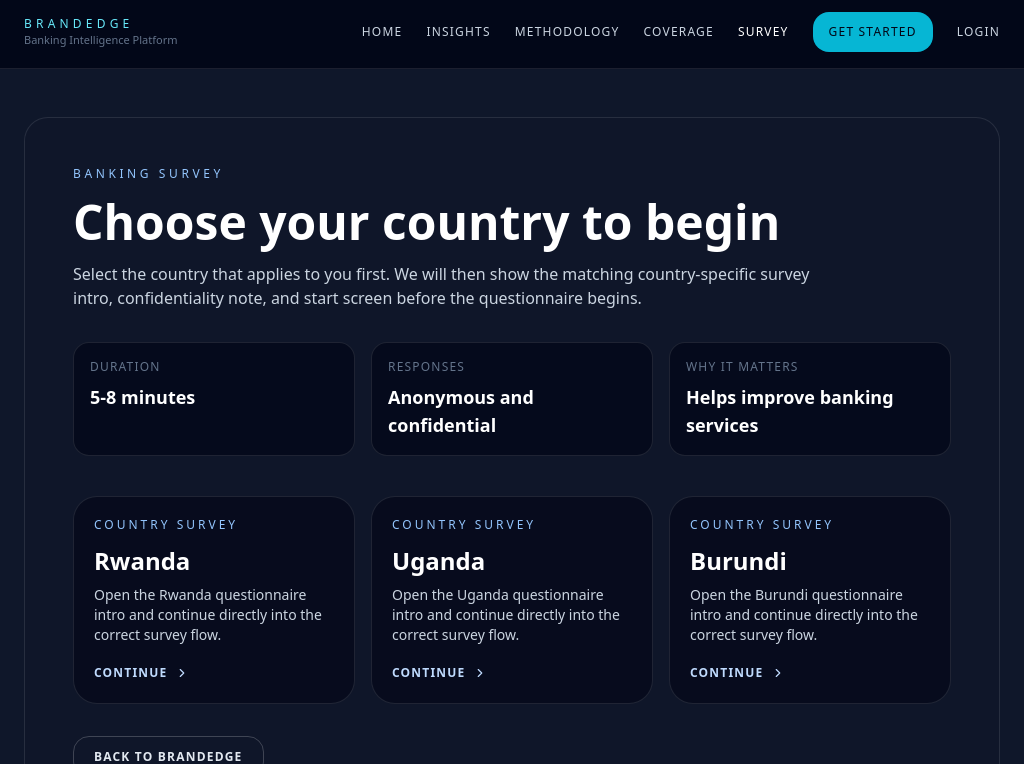
Test: survey country routes › starts the generic Rwanda flow at the first real research question after country selection and intro consent
This screenshot has width=1024, height=764.
Click the link "Rwanda" at (214, 600), box [73,496,355,704]
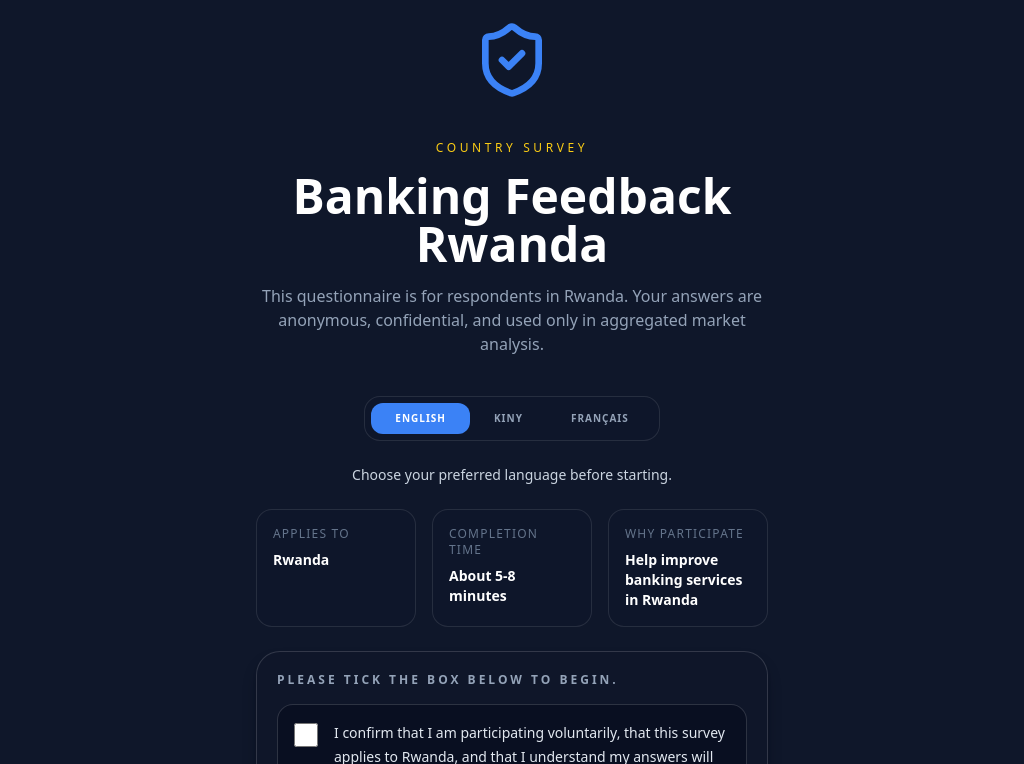
Expected: the heading "Banking Feedback Rwanda" is shown, [256,172,768,268]
Click the checkbox at (306, 735), box [294,723,318,747]
(page scrolled)
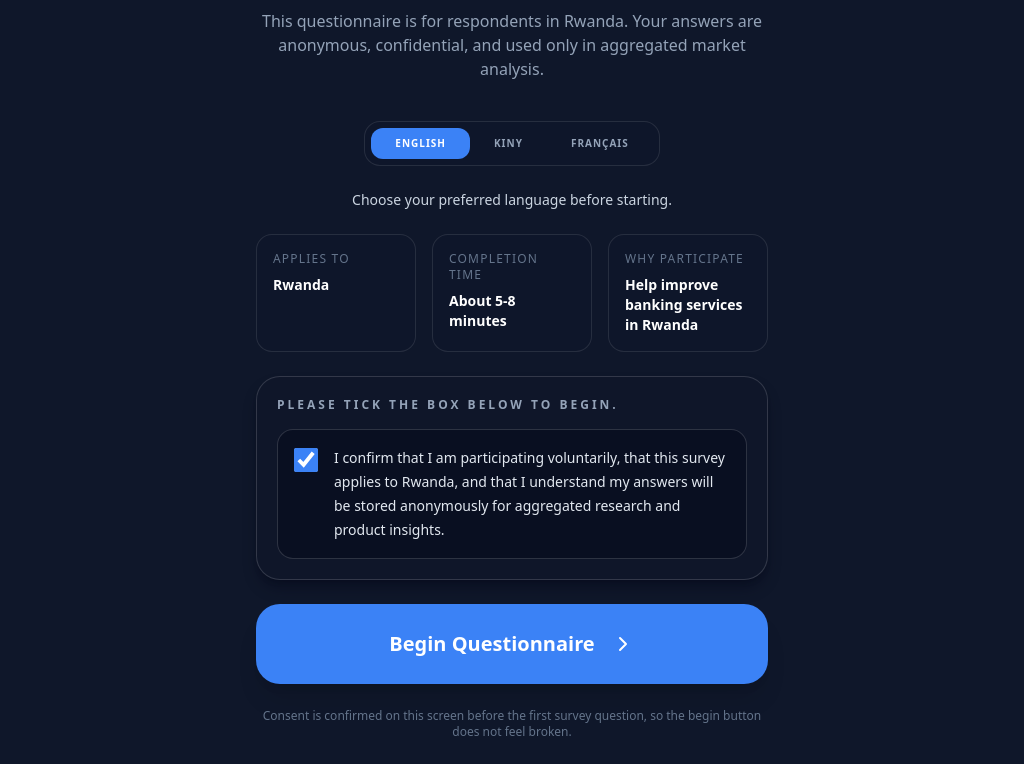
Click the button "Begin Questionnaire" at (512, 644), box [256,604,768,684]
(page scrolled)
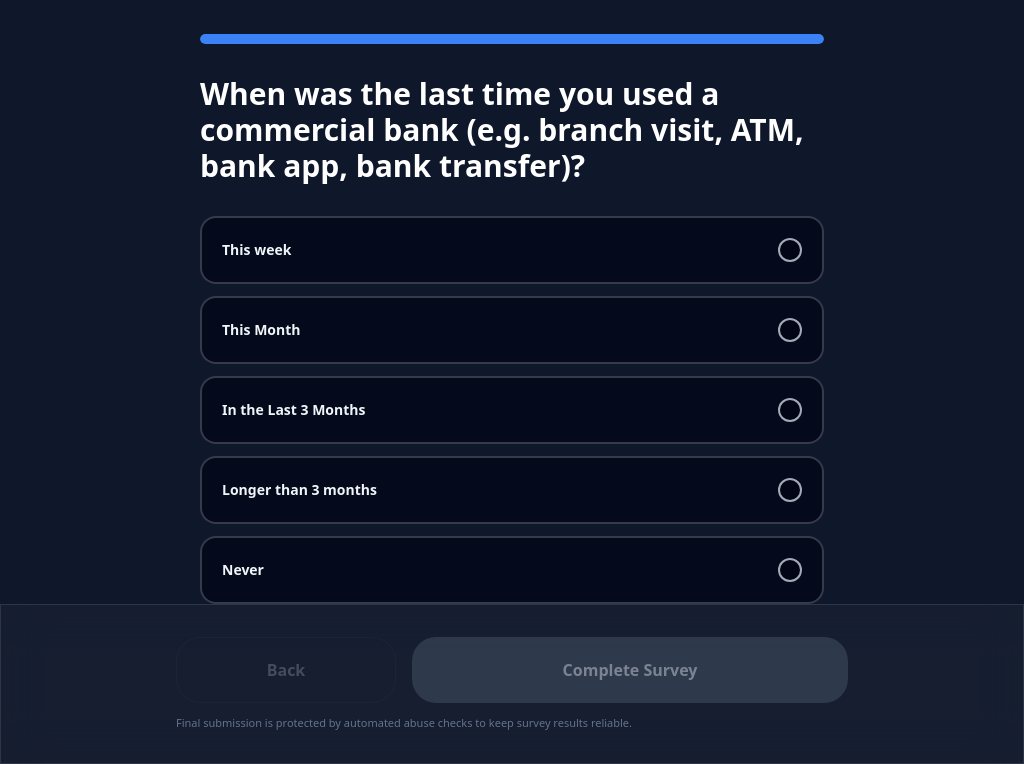
Expected: the heading "When was the last time you used a commercial bank" is shown, [200,73,804,186]
